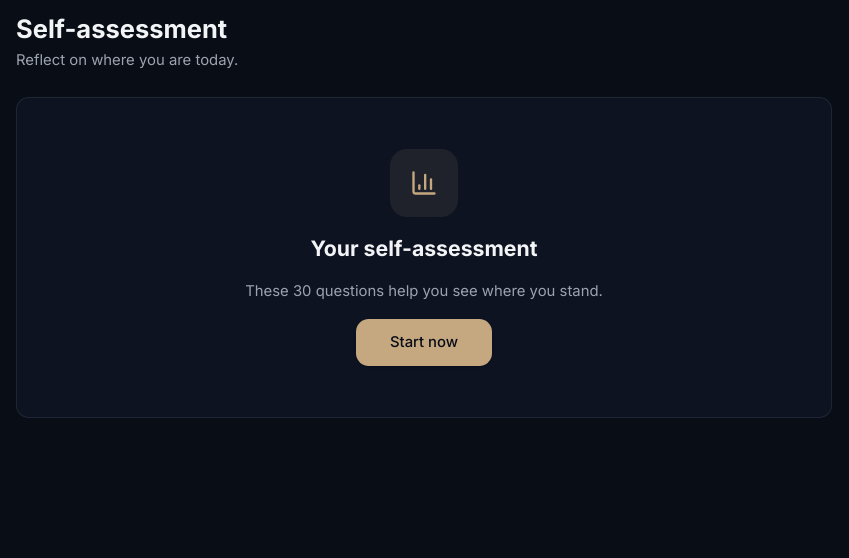
it: AssessmentPage rating scale › explains every rating with the method pack wording
Click the button "Start now": click(424, 342) x1=356 y1=319 x2=492 y2=366
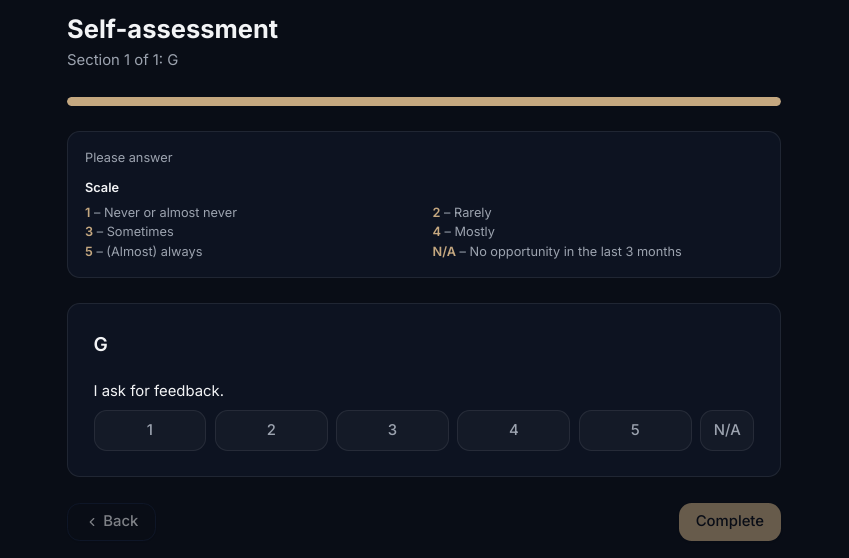
Check: the list item "1 – Never or almost never" is shown, box x1=85 y1=205 x2=237 y2=220
Check: the list item "5 – (Almost) always" is shown, box x1=85 y1=244 x2=202 y2=258
Check: the list item "N/A – No opportunity in the last 3 months" is shown, box x1=432 y1=244 x2=682 y2=258
